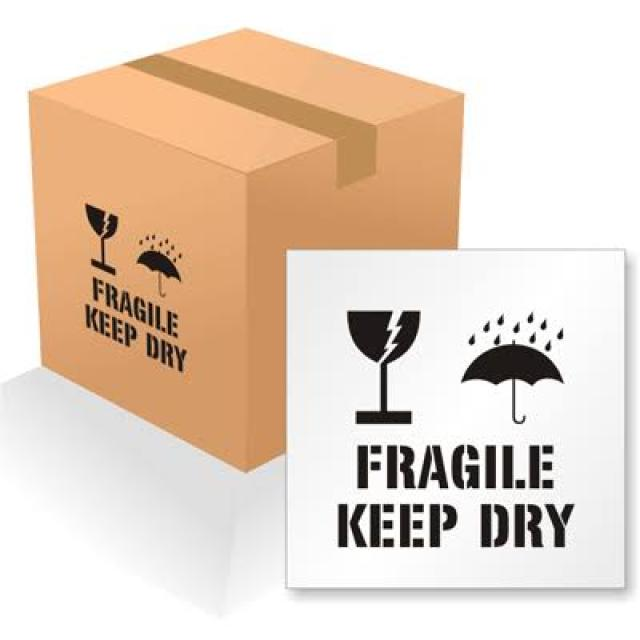fragile_label: (321, 282, 455, 436), (340, 426, 570, 496), (71, 190, 131, 283)
keep_dry_label: (447, 297, 590, 433), (326, 494, 594, 560), (127, 223, 189, 307)
